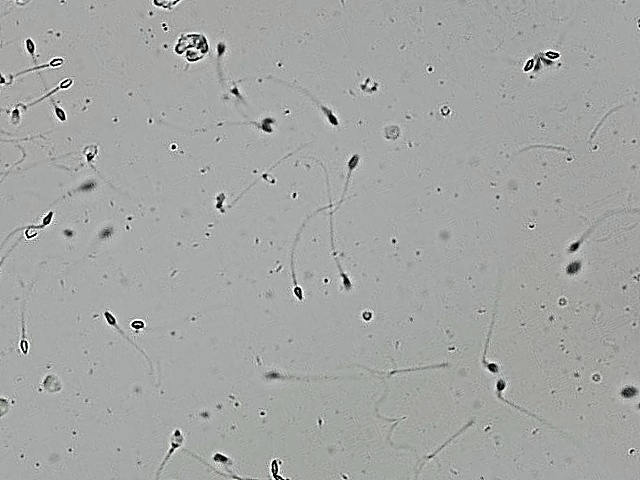sperm: (86, 19, 212, 123), (246, 79, 332, 221), (88, 63, 206, 153), (220, 156, 312, 252), (154, 113, 260, 181), (218, 304, 308, 376), (230, 15, 302, 100), (430, 263, 492, 339), (76, 264, 130, 342), (282, 122, 346, 184), (15, 198, 87, 248), (94, 270, 164, 320), (105, 404, 171, 454), (0, 156, 64, 202), (59, 114, 104, 176), (532, 193, 588, 233), (0, 60, 48, 92), (189, 428, 229, 463), (0, 104, 18, 178), (0, 192, 21, 253), (192, 20, 222, 60), (0, 288, 24, 332), (12, 197, 42, 221), (38, 78, 58, 108), (550, 246, 574, 268), (506, 40, 530, 62), (220, 69, 238, 95), (0, 88, 17, 114), (256, 446, 274, 466), (521, 48, 537, 64), (0, 114, 4, 170), (255, 194, 269, 206)
